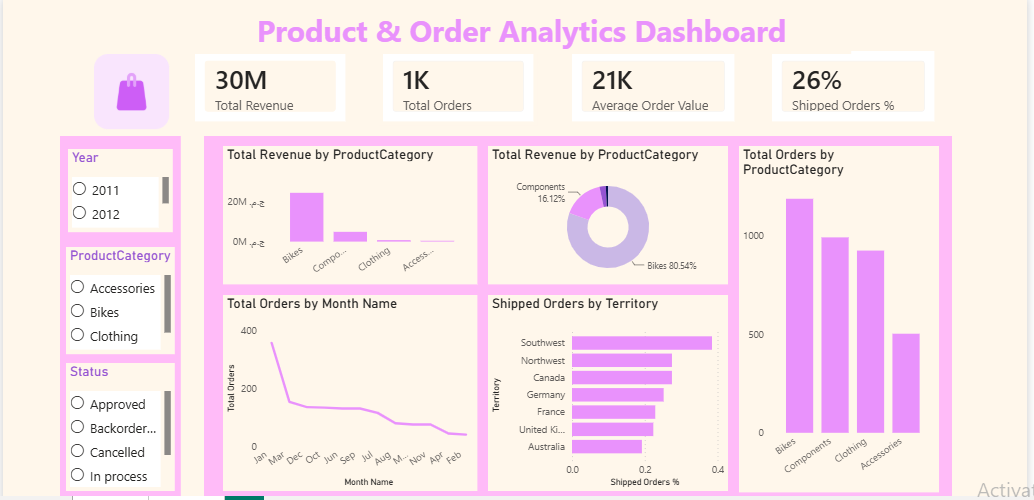

This screenshot's page, from the dashboard's own definition file:
{"tool":"powerbi","page":{"name":"Page 1","canvas":[1280,720],"ordinal":0},"visuals":[{"type":"cardVisual","fields":{"Data":["Fact.Total Revenue"]},"box":[235,61.2,198.7,98.7],"z":0},{"type":"shape","box":[71.2,172.5,151.2,456.2],"z":1000},{"type":"shape","box":[251.2,172.5,935,456.2],"z":2000},{"type":"lineChart","fields":{"Category":["Dim_Date.Month Name"],"Y":["Dim_Date.Total Orders"]},"box":[275,371.2,317.5,245],"z":3000},{"type":"cardVisual","fields":{"Data":["Dim_Date.Total Orders"]},"box":[470.5,61.2,198.3,98.3],"z":4000},{"type":"clusteredBarChart","title":"Shipped Orders  by Territory","fields":{"Category":["Dim_Territory.Territory"],"Y":["Dim_Date.Shipped Orders %"]},"box":[606.2,371.2,300,245],"z":5000},{"type":"listSlicer","title":"Year","fields":{"Values":["Dim_Date.Year.1"]},"box":[81.2,188.8,131.2,103.8],"z":6000},{"type":"cardVisual","fields":{"Data":["Dim_Date.Average Order Value"]},"box":[705.7,61.2,213.8,98.8],"z":7000},{"type":"listSlicer","fields":{"Values":["Dim_Product.ProductCategory"]},"box":[78.8,311.2,136.2,133.8],"z":8000},{"type":"cardVisual","fields":{"Data":["Dim_Date.Shipped Orders %"]},"box":[956.3,61.2,213.8,98.8],"z":9000},{"type":"columnChart","fields":{"Category":["Dim_Product.ProductCategory"],"Y":["Dim_Date.Total Orders"]},"box":[920,185,250,432.5],"z":10000},{"type":"donutChart","fields":{"Category":["Dim_Product.ProductCategory"],"Y":["Fact.Total Revenue"]},"box":[606.2,185,300,172.5],"z":11000},{"type":"columnChart","fields":{"Category":["Dim_Product.ProductCategory"],"Y":["Fact.Total Revenue"]},"box":[275,185,317.5,172.5],"z":12000},{"type":"listSlicer","fields":{"Values":["Dim_Status.Status"]},"box":[78.8,456.2,136.2,160],"z":13000},{"type":"textbox","box":[236.2,10,823.8,60],"z":14000},{"type":"image","box":[108.8,70,103.8,93.8],"z":16000}]}

Visuals, with their boxes on the page's 1280x720 design canvas (x1, y1, x2, y2). These are canvas units, not pixel positions in the 1034x500 screenshot, which may show the page scaled, cropped or inside an application window:
cardVisual - Fact.Total Revenue: [235, 61, 434, 160]
shape: [71, 172, 222, 629]
shape: [251, 172, 1186, 629]
lineChart - Dim_Date.Month Name x Dim_Date.Total Orders: [275, 371, 592, 616]
cardVisual - Dim_Date.Total Orders: [470, 61, 669, 160]
"Shipped Orders  by Territory" clusteredBarChart: [606, 371, 906, 616]
"Year" listSlicer: [81, 189, 212, 293]
cardVisual - Dim_Date.Average Order Value: [706, 61, 920, 160]
listSlicer - Dim_Product.ProductCategory: [79, 311, 215, 445]
cardVisual - Dim_Date.Shipped Orders %: [956, 61, 1170, 160]
columnChart - Dim_Product.ProductCategory x Dim_Date.Total Orders: [920, 185, 1170, 618]
donutChart - Dim_Product.ProductCategory x Fact.Total Revenue: [606, 185, 906, 358]
columnChart - Dim_Product.ProductCategory x Fact.Total Revenue: [275, 185, 592, 358]
listSlicer - Dim_Status.Status: [79, 456, 215, 616]
textbox: [236, 10, 1060, 70]
image: [109, 70, 213, 164]
